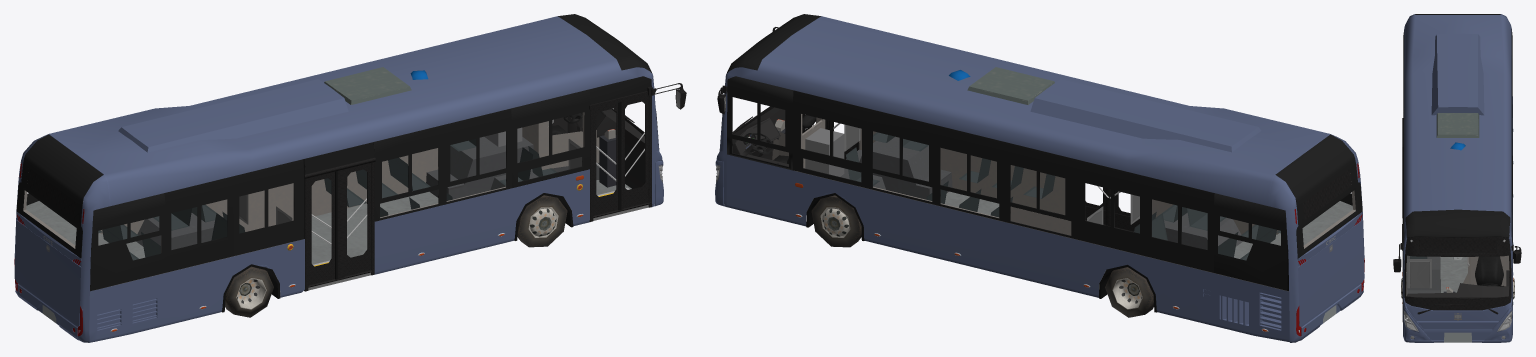
The model's file is sm_bus-tegv10.fbx.
3 renders of one model, left to right at view 1: azimuth 30°, elevation 25°; view 2: azimuth 150°, elevation 25°; view 3: azimuth 270°, elevation 25°, orthographic. The views are drawn at different scales.
Parts seen in each view (by area): view 1: sm_bus-tegv10; view 2: sm_bus-tegv10; view 3: sm_bus-tegv10.
Part boxes in pixels (x1,y1,x2,y2): sm_bus-tegv10: [14, 14, 686, 342]; sm_bus-tegv10: [715, 14, 1364, 342]; sm_bus-tegv10: [1393, 14, 1521, 342].
Bounding box in the file's own units: 12.22 × 3.46 × 2.97.
